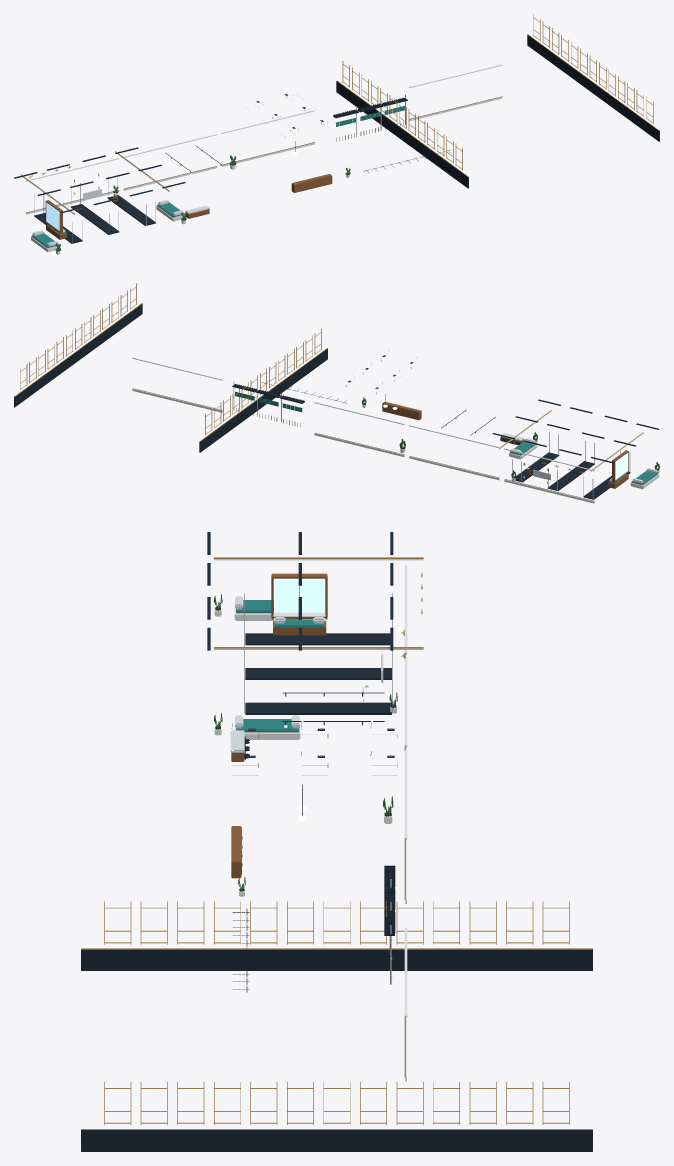
Rendered from interiors.glb.
3 renders of one model, top to bottom at view 1: azimuth 30°, elevation 25°; view 2: azimuth 150°, elevation 25°; view 3: azimuth 270°, elevation 25°, orthographic. The views are drawn at different scales.
Visible parts, largest first — view 1: Detail_journey_ink, Detail_journey_satin brass, Detail_kitchen_ink, Detail_rescue_porcelain, Detail_rescue_oak, Detail_rescue_ink, Detail_rotunda_teal upholstery; view 2: Detail_journey_ink, Detail_journey_satin brass, Detail_rescue_porcelain, Detail_kitchen_ink, Detail_rescue_oak, Detail_rescue_ink, Detail_rotunda_teal upholstery, Detail_rescue_teal upholstery; view 3: Detail_journey_ink, Detail_journey_satin brass, Detail_kitchen_ink, Detail_rescue_porcelain, Detail_rescue_oak, Detail_rescue_daylight, Detail_rescue_ink, Detail_rotunda_teal upholstery, Detail_rotunda_porcelain, Detail_salon_satin brass.
Boxes of the visible parts, left/top/right/bottom form: Detail_journey_ink: left=256, top=35, right=659, bottom=188; Detail_journey_satin brass: left=272, top=14, right=659, bottom=177; Detail_kitchen_ink: left=14, top=147, right=185, bottom=243; Detail_rescue_porcelain: left=26, top=64, right=502, bottom=229; Detail_rescue_oak: left=26, top=96, right=502, bottom=239; Detail_rescue_ink: left=165, top=97, right=451, bottom=173; Detail_rotunda_teal upholstery: left=31, top=202, right=184, bottom=247; Detail_journey_ink: left=14, top=303, right=413, bottom=452; Detail_journey_satin brass: left=14, top=283, right=411, bottom=441; Detail_rescue_porcelain: left=132, top=357, right=619, bottom=503; Detail_kitchen_ink: left=492, top=399, right=658, bottom=499; Detail_rescue_oak: left=133, top=388, right=628, bottom=501; Detail_rescue_ink: left=232, top=381, right=520, bottom=445; Detail_rotunda_teal upholstery: left=509, top=441, right=658, bottom=484; Detail_rescue_teal upholstery: left=235, top=391, right=626, bottom=483; Detail_journey_ink: left=81, top=728, right=592, bottom=1151; Detail_journey_satin brass: left=81, top=733, right=592, bottom=1129; Detail_kitchen_ink: left=207, top=532, right=393, bottom=714; Detail_rescue_porcelain: left=239, top=565, right=407, bottom=1081; Detail_rescue_oak: left=231, top=573, right=405, bottom=1077; Detail_rescue_daylight: left=274, top=578, right=324, bottom=612; Detail_rescue_ink: left=232, top=692, right=395, bottom=992; Detail_rotunda_teal upholstery: left=236, top=600, right=299, bottom=731; Detail_rotunda_porcelain: left=214, top=603, right=300, bottom=739; Detail_salon_satin brass: left=213, top=557, right=423, bottom=648.
Size of the model in its own units: 70.28 by 7.55 by 28.
